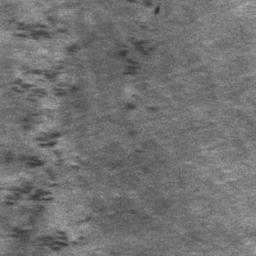Rolled in scale: (5, 4, 88, 213), (11, 216, 92, 253), (119, 25, 155, 76), (126, 0, 160, 16), (131, 210, 149, 221)
